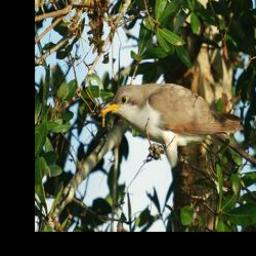Cuckoo: (97, 79, 246, 188)
